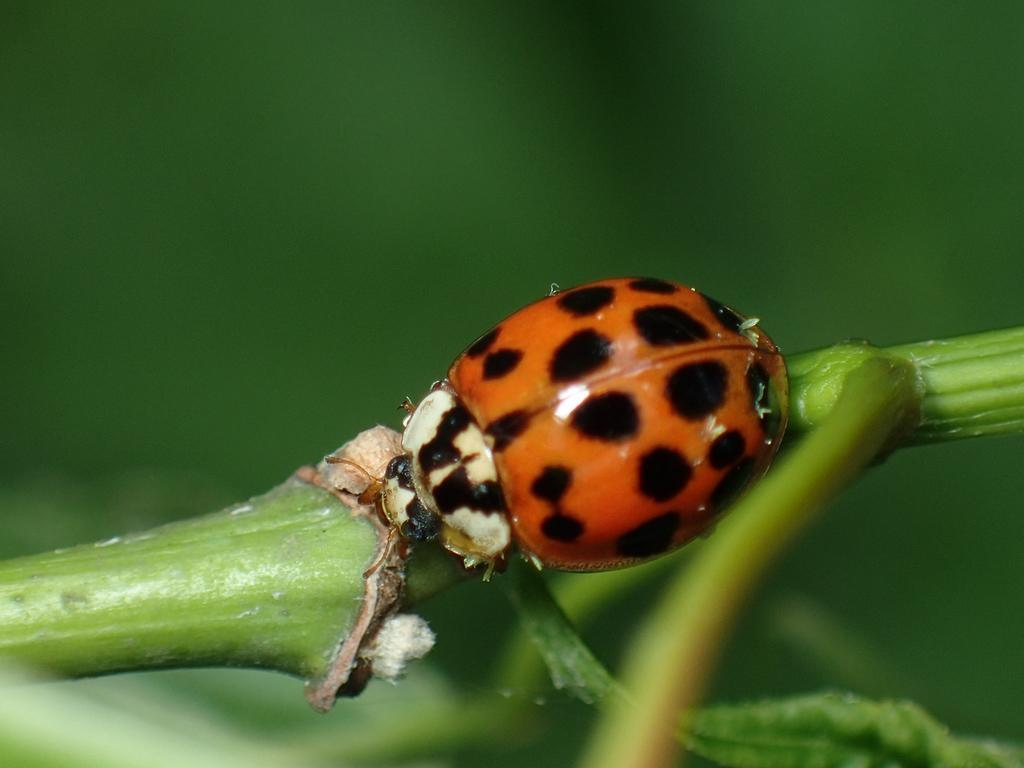ladybug: (321, 267, 799, 587)
